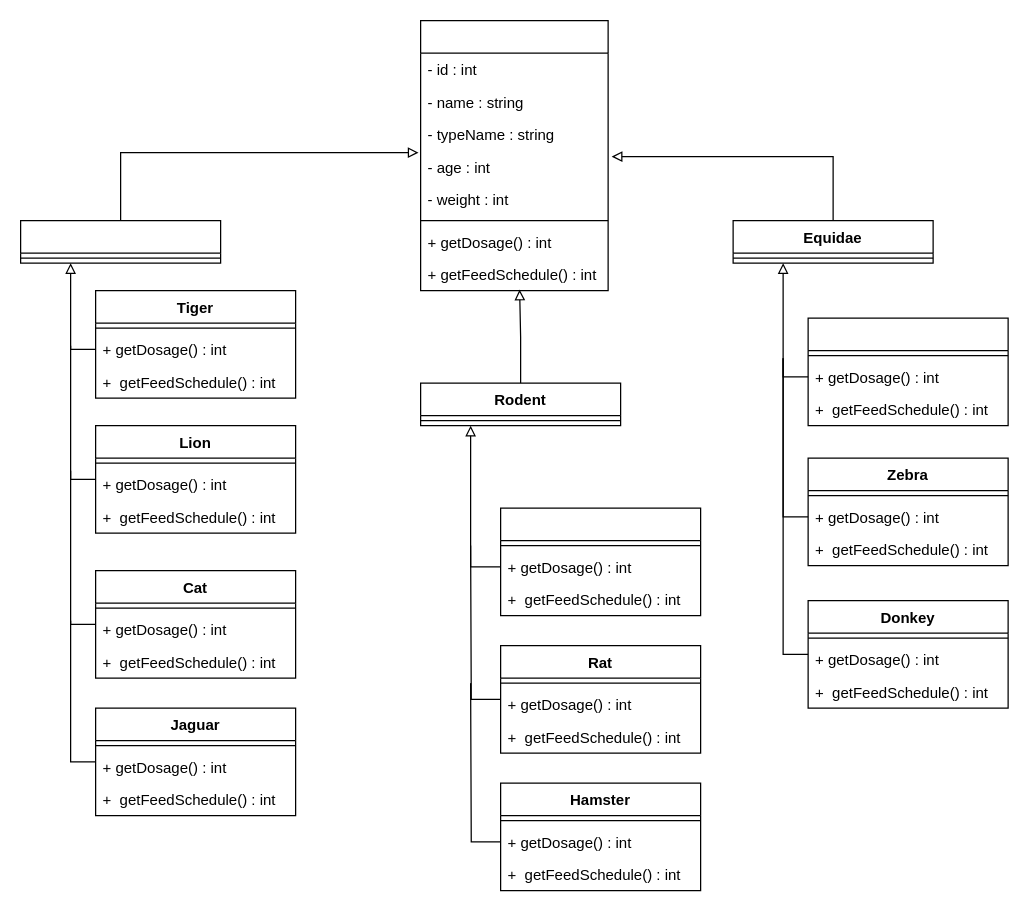
This 1029x911 diagram has some shape labels left out. Each missing label, with the box of its shape:
Animal: (419, 19, 608, 291)
Beaver: (499, 507, 701, 616)
Felidae: (19, 219, 221, 263)
Horse: (807, 317, 1008, 426)
